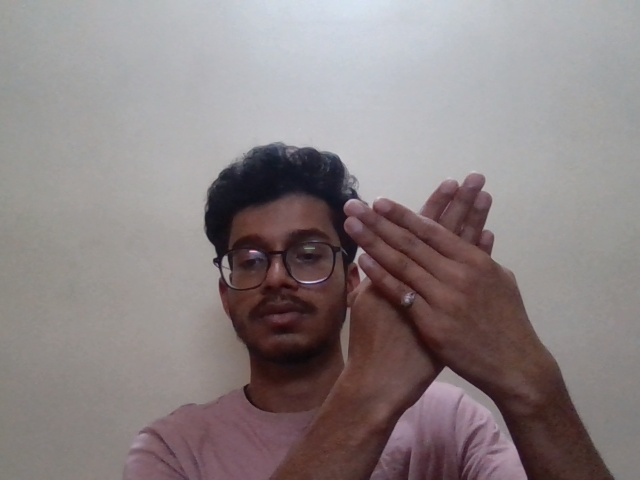what: (336, 171, 541, 391)
